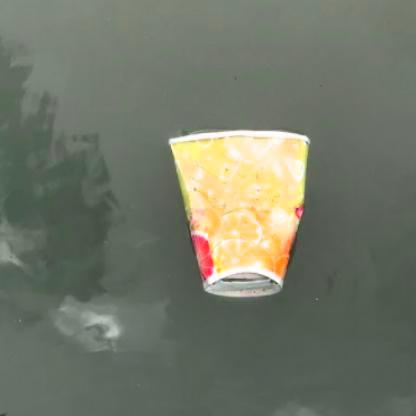Plastic: (156, 123, 316, 301)
